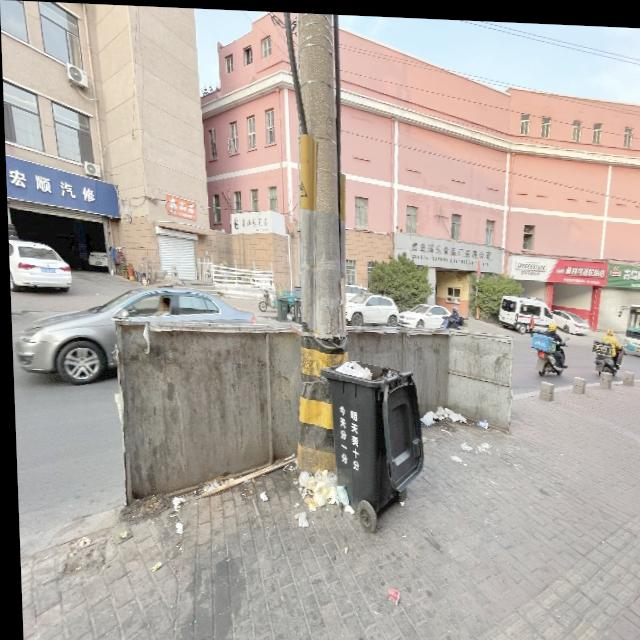garbage: (286, 464, 350, 527), (416, 400, 486, 426)
overflow: (317, 355, 422, 514)
